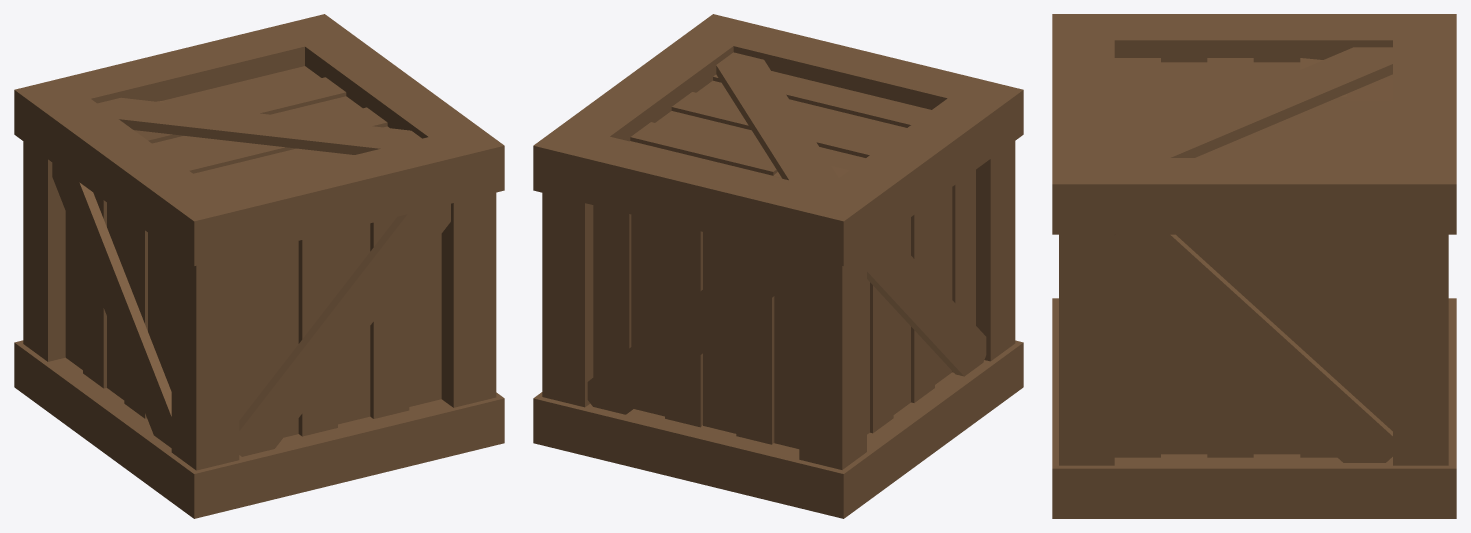
Rendered from Doos.fbx.
3 renders of one model, left to right at view 1: azimuth 30°, elevation 25°; view 2: azimuth 150°, elevation 25°; view 3: azimuth 270°, elevation 25°, orthographic. The views are drawn at different scales.
Parts seen in each view (by area): view 1: Plane; view 2: Plane; view 3: Plane.
Boxes of the visible parts, <box> form: Plane: <box>14,14,504,518</box>; Plane: <box>533,14,1023,518</box>; Plane: <box>1052,14,1456,518</box>.
Bounding box in the file's own units: 290 × 265 × 291.
